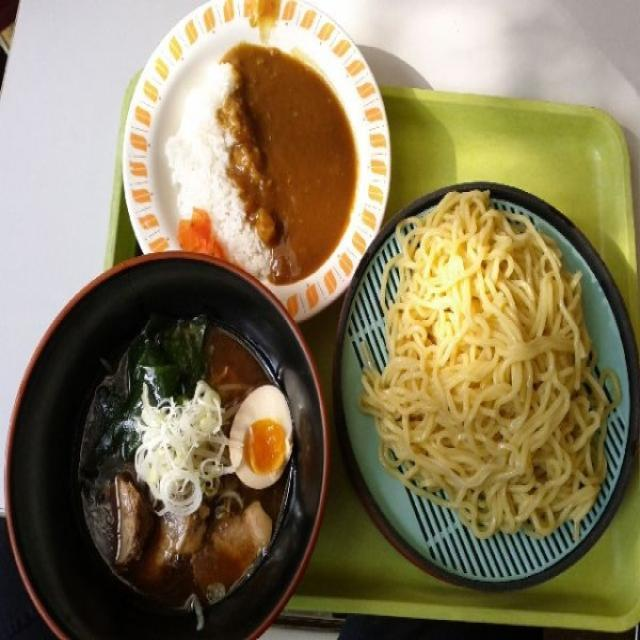Beef Curry: (238, 34, 364, 276)
Pasta: (371, 194, 615, 536)
